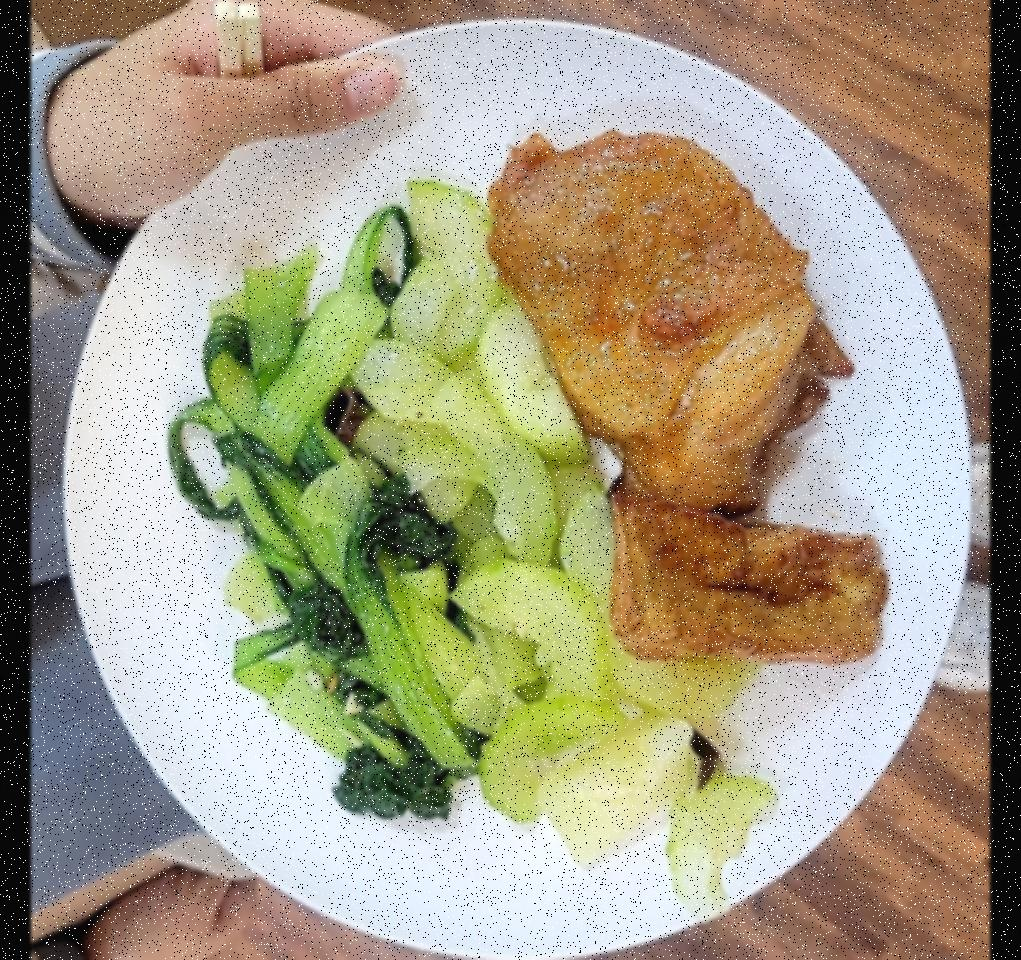grilled chicken leg steak: (489, 117, 848, 494)
plate: (69, 1, 974, 960)
side dish: (385, 177, 750, 890), (187, 239, 472, 826), (608, 492, 902, 676)
